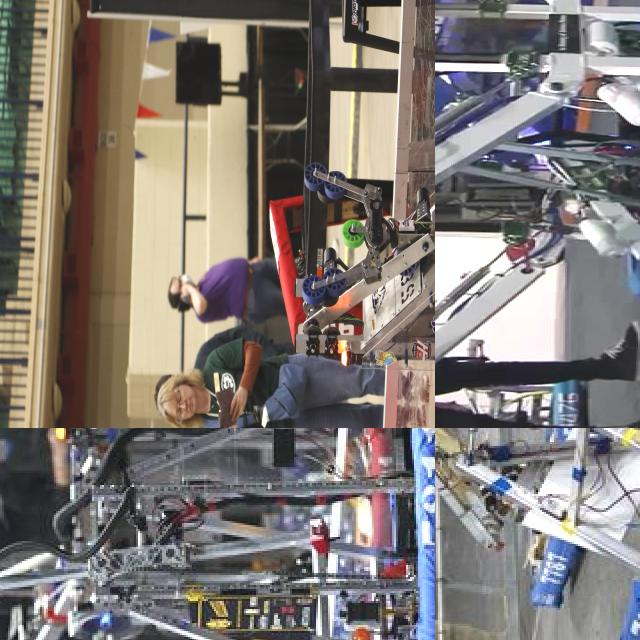FRC-Robots: (0, 428, 435, 640), (435, 0, 640, 336), (254, 51, 435, 428), (435, 428, 640, 593)
